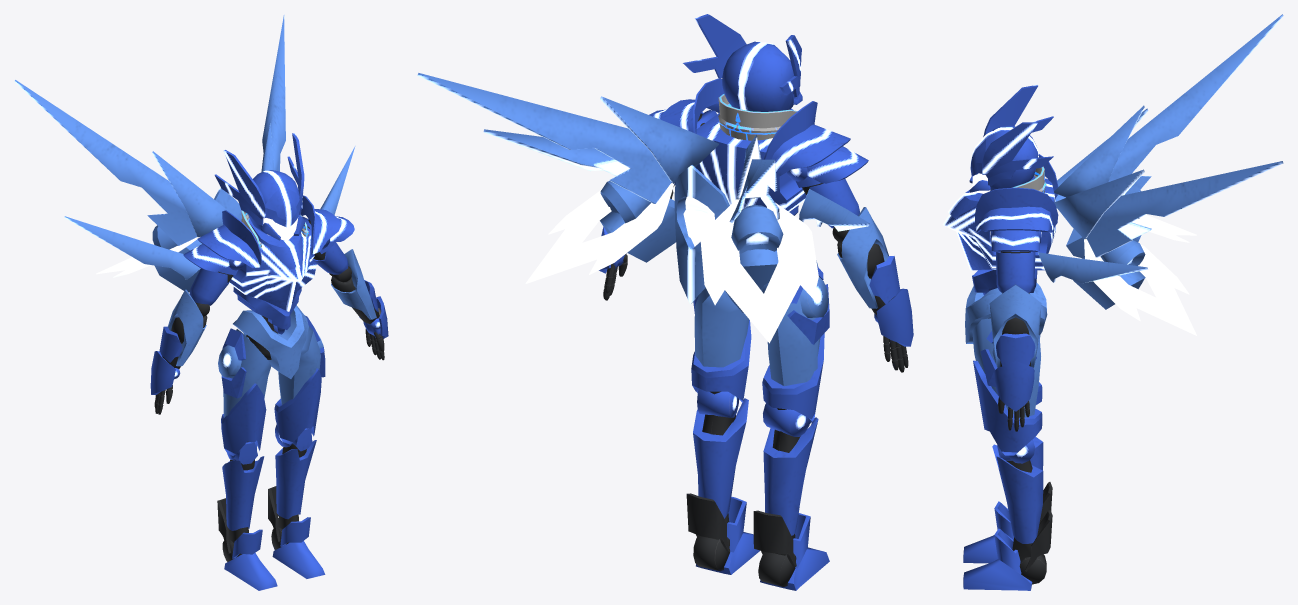
The model's file is Male_9.glb.
3 renders of one model, left to right at view 1: azimuth 30°, elevation 25°; view 2: azimuth 150°, elevation 25°; view 3: azimuth 270°, elevation 25°, orthographic. The views are drawn at different scales.
Parts seen in each view (by area): view 1: M1.1, WM2, H, AM, AMR, AMH1.001, AML, AMH2, NTC, AMM2; view 2: WM2, M1.1, H, AM, AMR, AMH1.001, Object001, AML, AMM2; view 3: WM2, M1.1, H, AML, AM, AMH2, AMM1, NTC.
Part boxes in pixels (x1,y1,x2,y2): M1.1: (150,216,388,590); WM2: (14,15,355,292); H: (214,133,304,240); AM: (229,227,316,311); AMR: (197,210,261,268); AMH1.001: (167,289,206,366); AML: (301,195,340,254); AMH2: (331,249,376,319); NTC: (248,219,302,269); AMM2: (183,244,229,271); WM2: (417,73,869,343); M1.1: (599,110,913,590); H: (683,14,802,111); AM: (695,113,806,211); AMR: (763,101,850,177); AMH1.001: (837,207,888,308); Object001: (718,94,797,140); AML: (660,78,723,133); AMM2: (807,146,868,183); WM2: (1038,14,1283,335); M1.1: (963,231,1052,590); H: (969,85,1053,193); AML: (975,187,1058,232); AM: (942,178,1055,270); AMH2: (989,284,1041,367); AMM1: (991,230,1039,251); NTC: (948,176,1035,218).
Size of the model in its own units: 3.77 by 5.34 by 3.41.
Materials: 3 (3 with a texture image).
